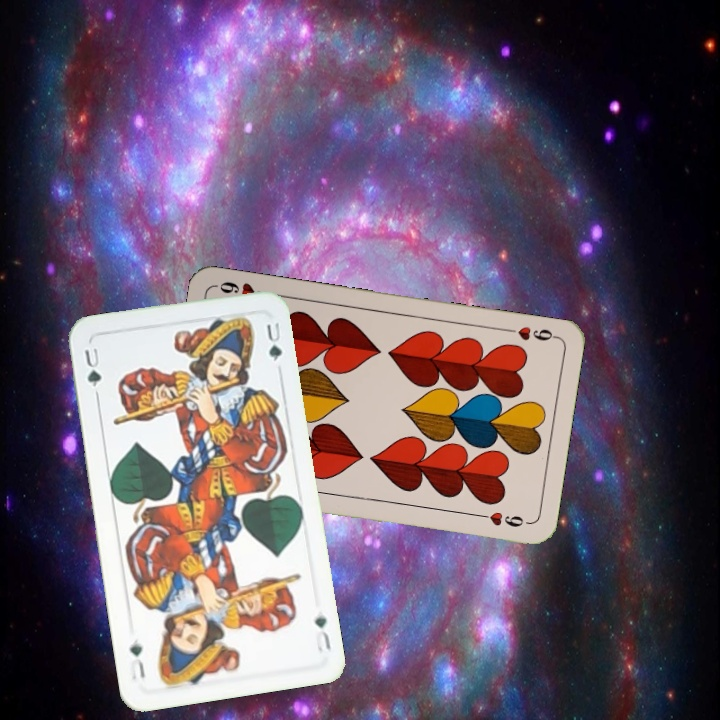GU: (80, 343, 104, 399), (310, 610, 333, 655)
H9: (500, 322, 559, 344)
